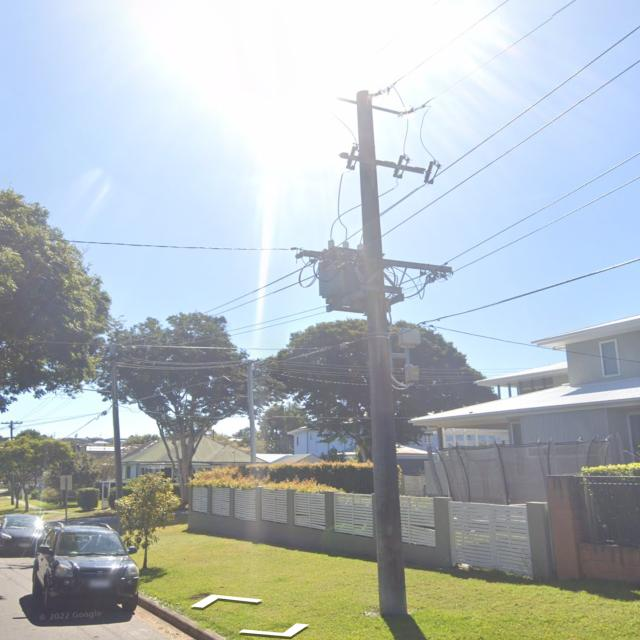HV-transmission: (338, 82, 441, 185)
crossarm: (301, 250, 454, 274), (340, 152, 425, 175), (337, 98, 402, 115), (1, 422, 22, 424)
timber-pole: (355, 90, 407, 621), (110, 329, 125, 500), (10, 420, 13, 506)
transformer: (314, 240, 374, 314)
